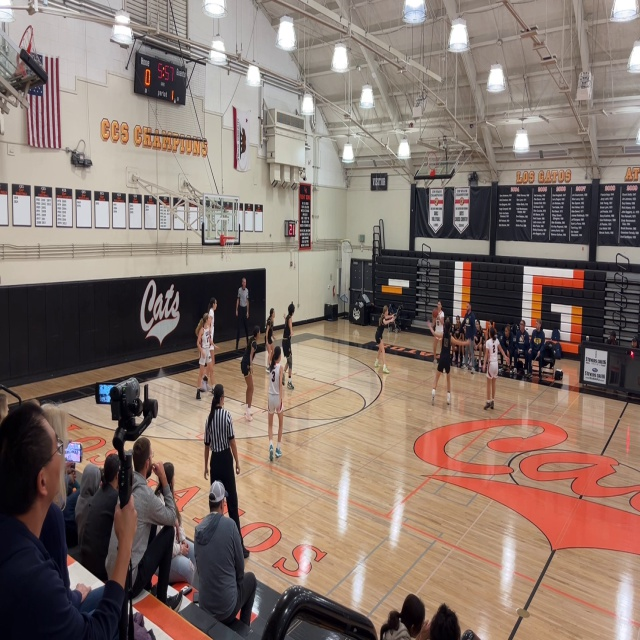Basketball: (432, 308, 439, 317)
